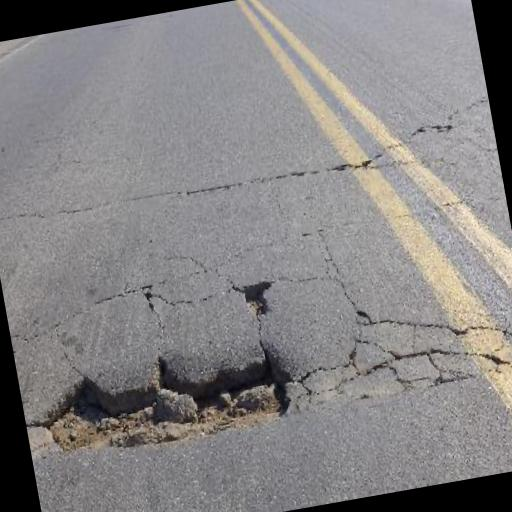pothole: (30, 328, 307, 465), (237, 274, 279, 319)
